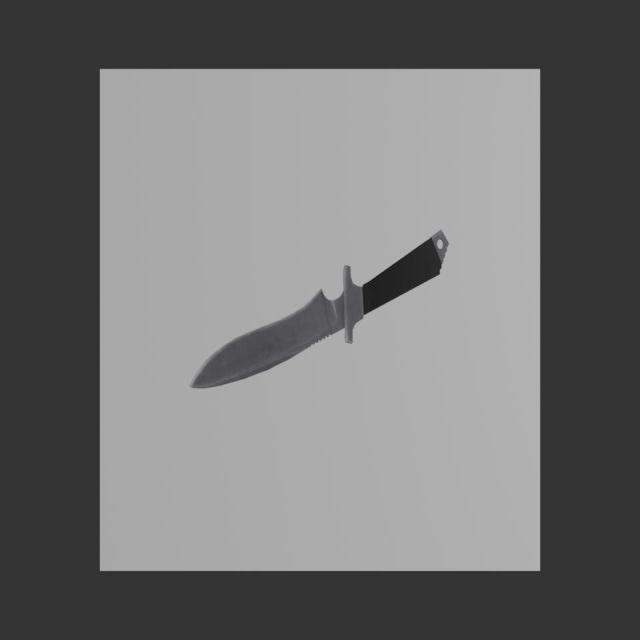knife: (362, 230, 449, 315)
